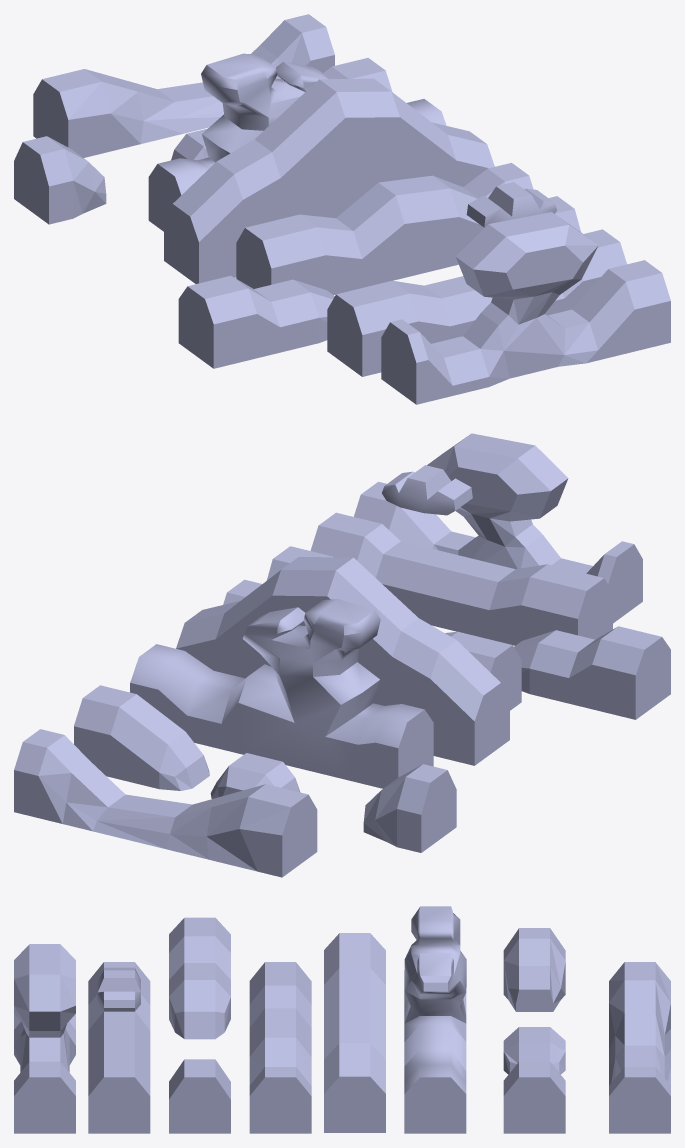
File: LandRounded.fbx
3 views of the same model, one above another, from view 1: azimuth 30°, elevation 25°; view 2: azimuth 150°, elevation 25°; view 3: azimuth 270°, elevation 25° (orthographic). The views are drawn at different scales.
Visible parts, largest first — view 1: SlopeUp, PlateauMiddle, Flat, SlopeDown, F1, C1, PlateauLeft, I1, F2, I3, I2; view 2: PlateauLeft, SlopeUp, SlopeDown, F1, PlateauMiddle, C1, I3, I1, F2, Flat, I2, C2; view 3: PlateauLeft, SlopeUp, PlateauMiddle, Flat, SlopeDown, F1, C1, I1, C2, I3, I2, F2.
Boxes of the visible parts, <box> form: SlopeUp: <box>164,78,494,283</box>; PlateauMiddle: <box>381,212,670,404</box>; Flat: <box>236,162,533,294</box>; SlopeDown: <box>33,14,334,157</box>; F1: <box>327,229,626,376</box>; C1: <box>178,275,334,368</box>; PlateauLeft: <box>148,53,446,231</box>; I1: <box>14,136,106,224</box>; F2: <box>466,182,557,227</box>; I3: <box>323,58,392,91</box>; I2: <box>171,128,208,160</box>; PlateauLeft: <box>130,599,433,788</box>; SlopeUp: <box>176,557,509,765</box>; SlopeDown: <box>14,729,317,877</box>; F1: <box>310,512,612,645</box>; PlateauMiddle: <box>354,433,642,623</box>; C1: <box>514,626,670,719</box>; I3: <box>74,685,209,790</box>; I1: <box>363,764,456,852</box>; F2: <box>382,465,472,515</box>; Flat: <box>223,579,521,710</box>; I2: <box>210,753,300,798</box>; C2: <box>267,546,332,580</box>; PlateauLeft: <box>404,906,466,1133</box>; SlopeUp: <box>324,933,385,1132</box>; PlateauMiddle: <box>14,944,75,1133</box>; Flat: <box>249,962,311,1133</box>; SlopeDown: <box>609,962,670,1133</box>; F1: <box>88,962,150,1133</box>; C1: <box>169,917,230,1039</box>; I1: <box>503,928,565,1011</box>; C2: <box>169,1059,230,1133</box>; I3: <box>503,1061,565,1133</box>; I2: <box>503,1027,565,1074</box>; F2: <box>97,967,140,1011</box>.
Bounding box in the file's own units: 61 × 24.1 × 106.
